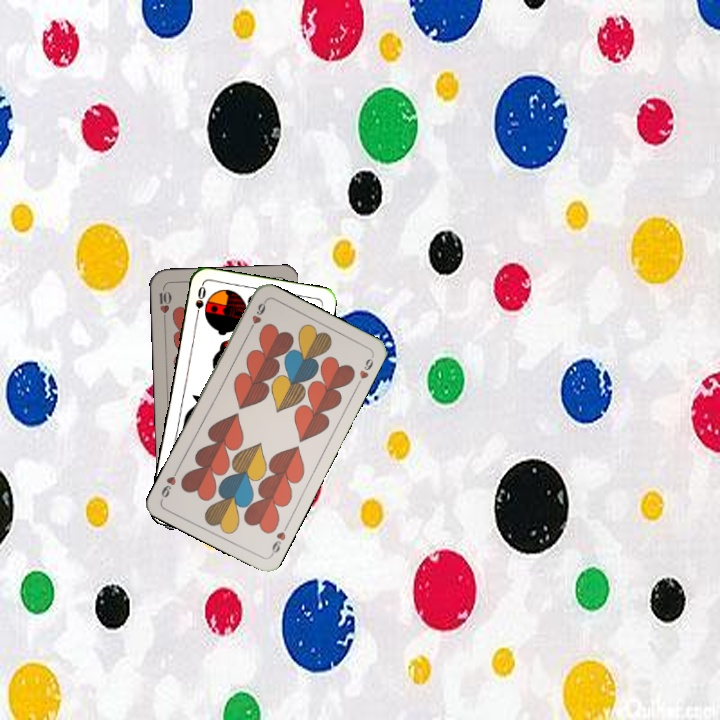H10: (155, 284, 173, 324)
H9: (244, 297, 268, 335), (267, 520, 291, 558)
SO: (191, 282, 209, 322)
